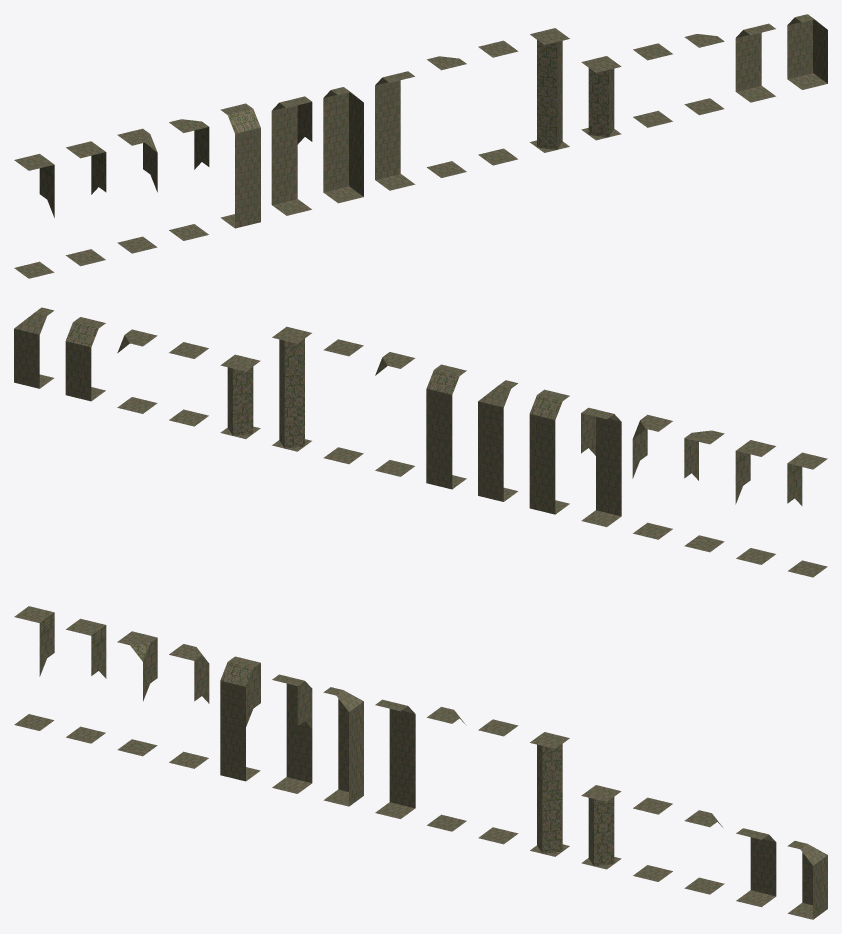
File: TileScene.gltf
The picture shows the model from 3 angles, top to bottom: view 1: azimuth 30°, elevation 25°; view 2: azimuth 150°, elevation 25°; view 3: azimuth 330°, elevation 25°; orthographic projection.
Parts seen in each view (by area): view 1: WallsCornerLg, TransitionWall1, TransitionWall2, PillarLg, WallsLg, WallsCorner, Pillar, Walls, TransitionFloor1, TransitionFloor2, TransitionCorner1, TransitionCorner2 (+4 smaller); view 2: TransitionWall2, TransitionWall1, WallsLg, PillarLg, WallsCornerLg, Walls, Pillar, WallsCorner, TransitionFloor1, TransitionFloor2, TransitionCorner1, TransitionCorner2 (+4 smaller); view 3: TransitionWall2, PillarLg, TransitionWall1, WallsLg, WallsCornerLg, Pillar, Walls, WallsCorner, TransitionCorner2, TransitionFloor2, TransitionFloor1, TransitionCorner1 (+4 smaller).
Part boxes in pixels (bbox=[...]): WallsCornerLg: bbox=[323, 87, 363, 203]; TransitionWall1: bbox=[271, 96, 312, 215]; TransitionWall2: bbox=[220, 103, 260, 228]; PillarLg: bbox=[530, 28, 569, 152]; WallsLg: bbox=[375, 71, 415, 190]; WallsCorner: bbox=[787, 14, 827, 89]; Pillar: bbox=[581, 56, 621, 140]; Walls: bbox=[735, 23, 775, 102]; TransitionFloor1: bbox=[66, 141, 106, 266]; TransitionFloor2: bbox=[14, 154, 54, 278]; TransitionCorner1: bbox=[169, 119, 209, 240]; TransitionCorner2: bbox=[117, 128, 157, 253]; TransitionWall2: bbox=[581, 407, 621, 527]; TransitionWall1: bbox=[529, 389, 569, 514]; WallsLg: bbox=[426, 364, 466, 489]; PillarLg: bbox=[272, 326, 311, 451]; WallsCornerLg: bbox=[478, 380, 518, 501]; Walls: bbox=[65, 317, 105, 401]; Pillar: bbox=[220, 354, 260, 438]; WallsCorner: bbox=[14, 307, 54, 388]; TransitionFloor1: bbox=[735, 440, 775, 564]; TransitionFloor2: bbox=[787, 452, 827, 577]; TransitionCorner1: bbox=[632, 414, 672, 539]; TransitionCorner2: bbox=[684, 430, 724, 552]; TransitionWall2: bbox=[220, 656, 260, 781]; PillarLg: bbox=[530, 732, 569, 856]; TransitionWall1: bbox=[272, 674, 312, 793]; WallsLg: bbox=[375, 699, 415, 818]; WallsCornerLg: bbox=[323, 687, 363, 806]; Pillar: bbox=[581, 785, 621, 869]; Walls: bbox=[736, 828, 776, 907]; WallsCorner: bbox=[787, 841, 827, 919]; TransitionCorner2: bbox=[117, 631, 157, 756]; TransitionFloor2: bbox=[14, 606, 54, 730]; TransitionFloor1: bbox=[66, 618, 106, 743]; TransitionCorner1: bbox=[169, 644, 209, 768].
Size of the model in its own units: 31 by 4 by 1.
Materials: 5 (5 with a texture image).
